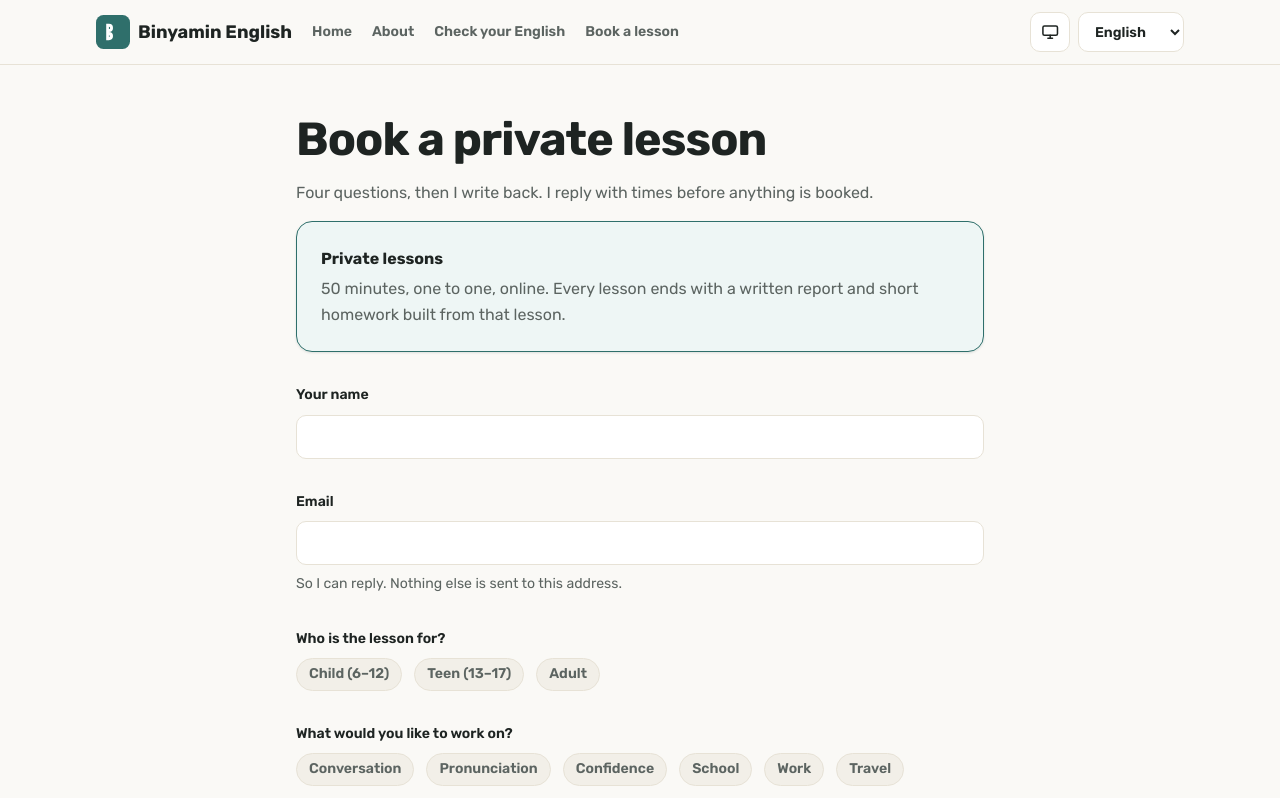
Test: public experience › never exposes the tutor address until the visitor asks to send
This screenshot has width=1280, height=798.
Expected: the text "heybinyamin" is not shown
// Copy works from a complete enquiry, and only then reveals the address.
Type "Sam" into the field labelled "Your name" at (640, 437), box [296, 415, 984, 459]
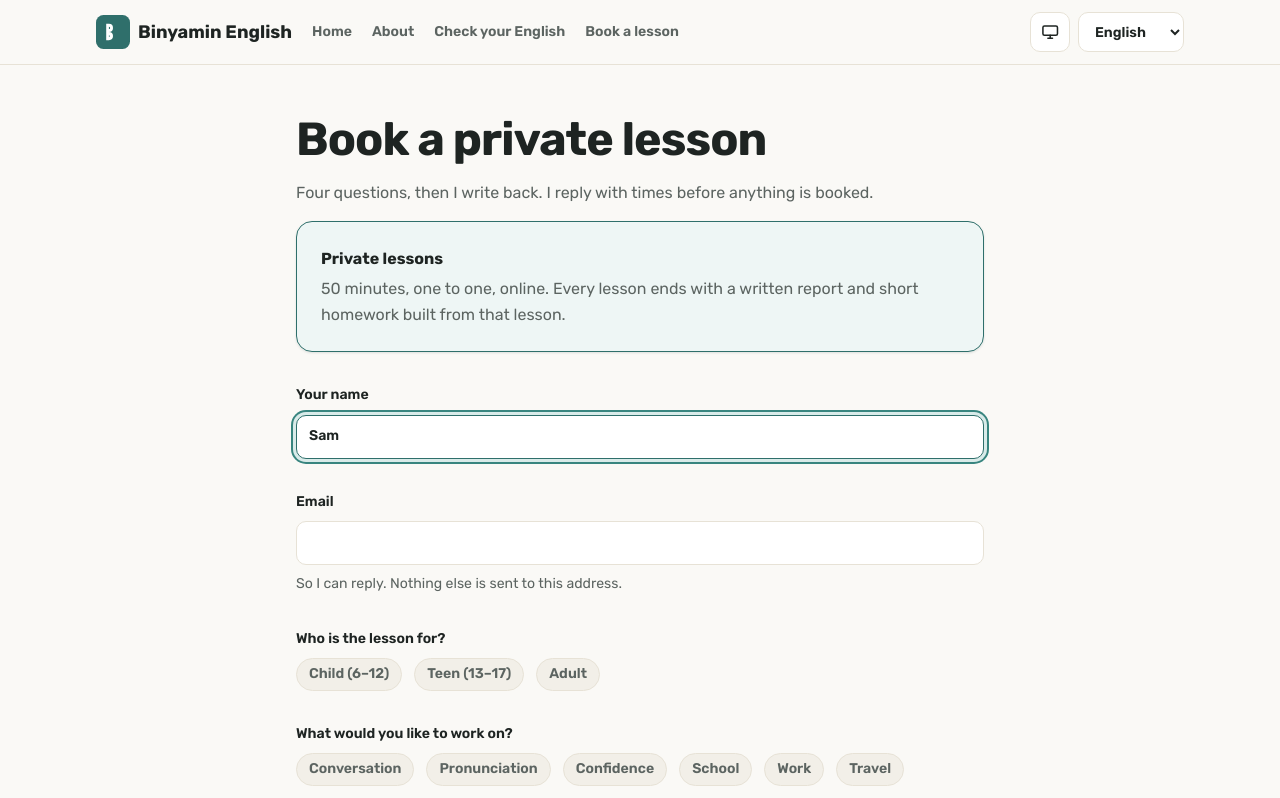
Type "sam@example.com" into the field labelled "Email" at (640, 543), box [296, 521, 984, 565]
(page scrolled)
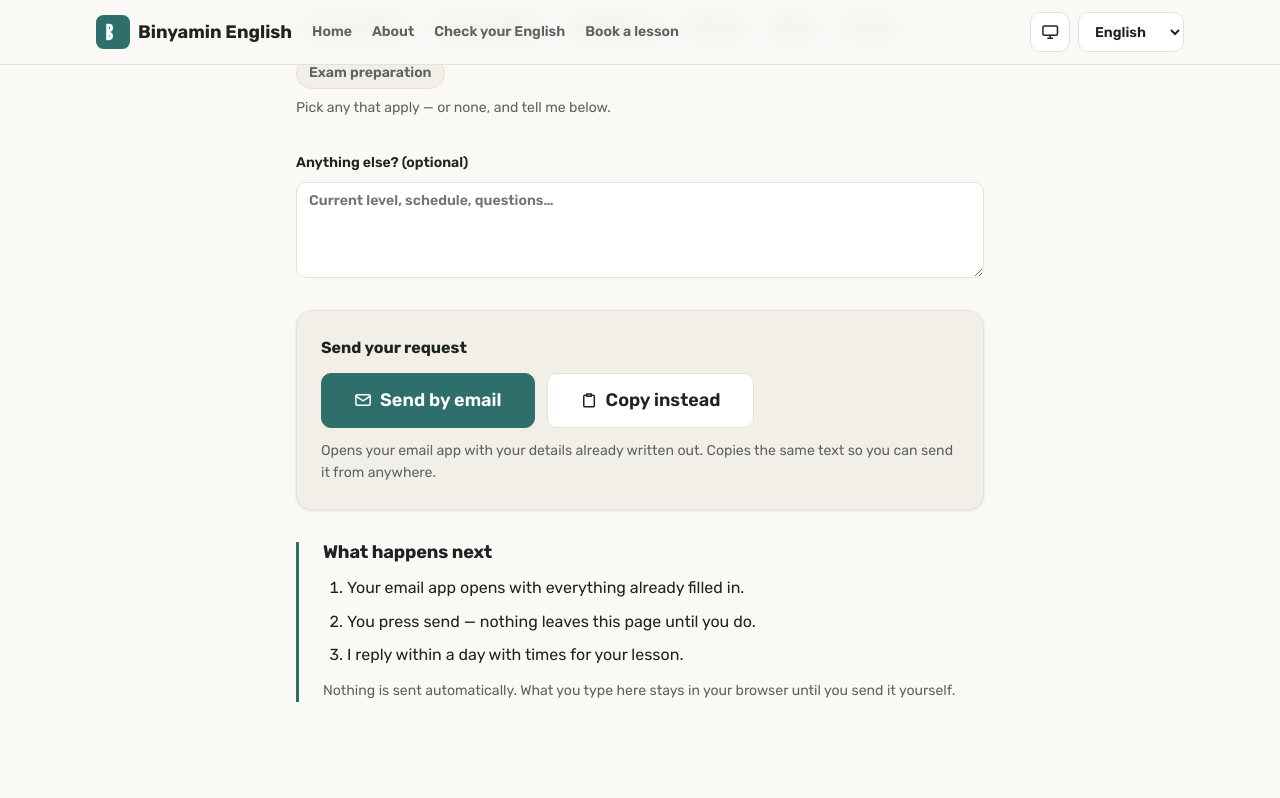
Click the button "Copy instead" at (650, 400), box [546, 373, 754, 428]
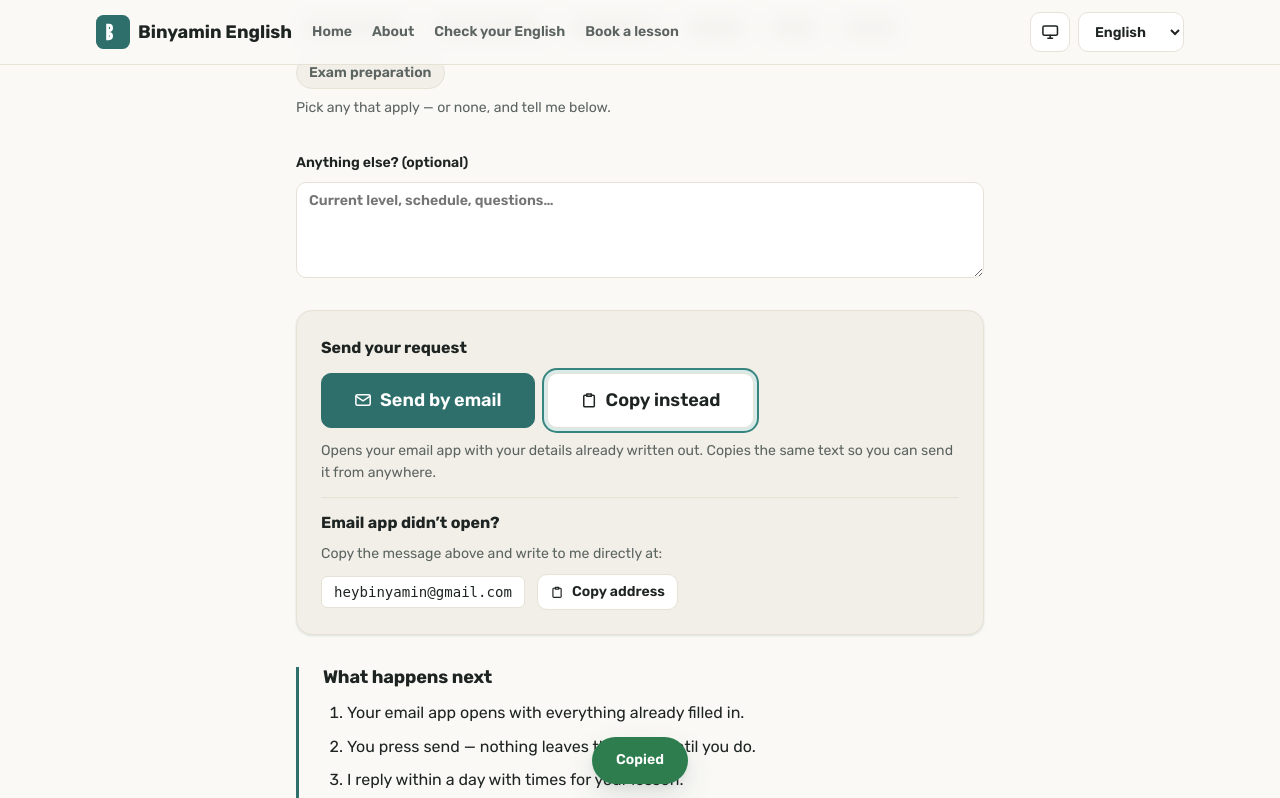
Expected: the text "heybinyamin@gmail.com" is shown, [321, 576, 525, 608]
